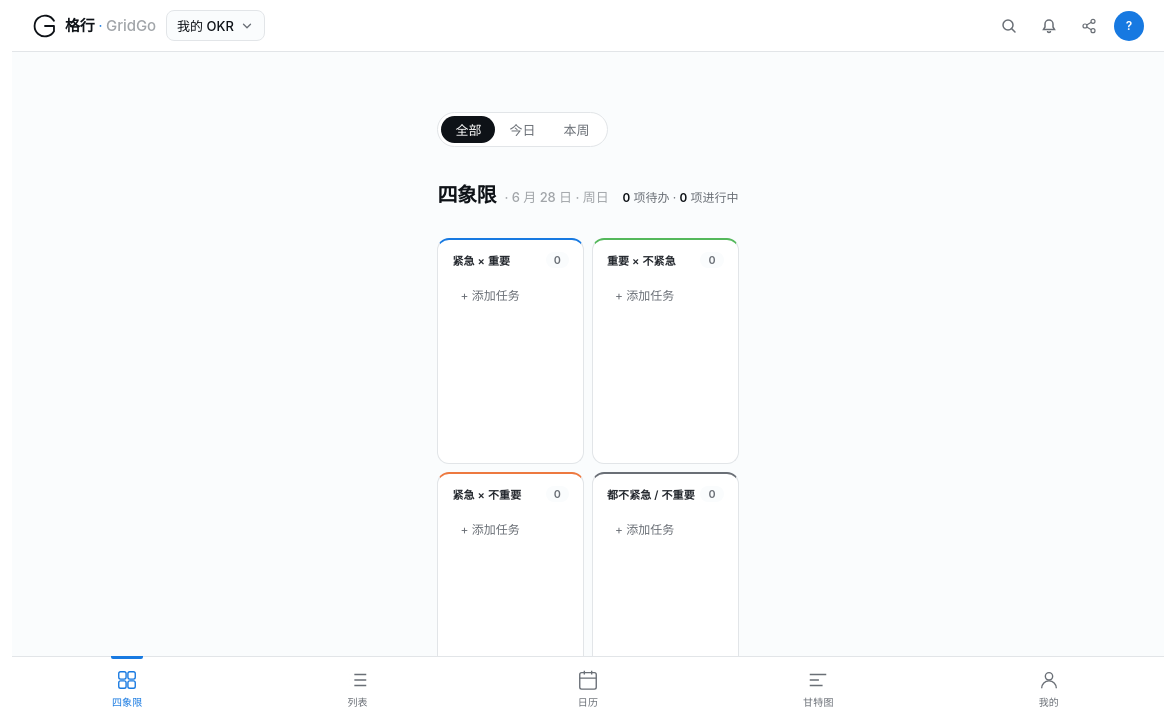
Test: 日常操作 7 步流程 › 6. 切到 我的 Tab，能看到 profile + 统计 + 设置
Click the tab "我的": (1049, 688) [934,657,1164,719]
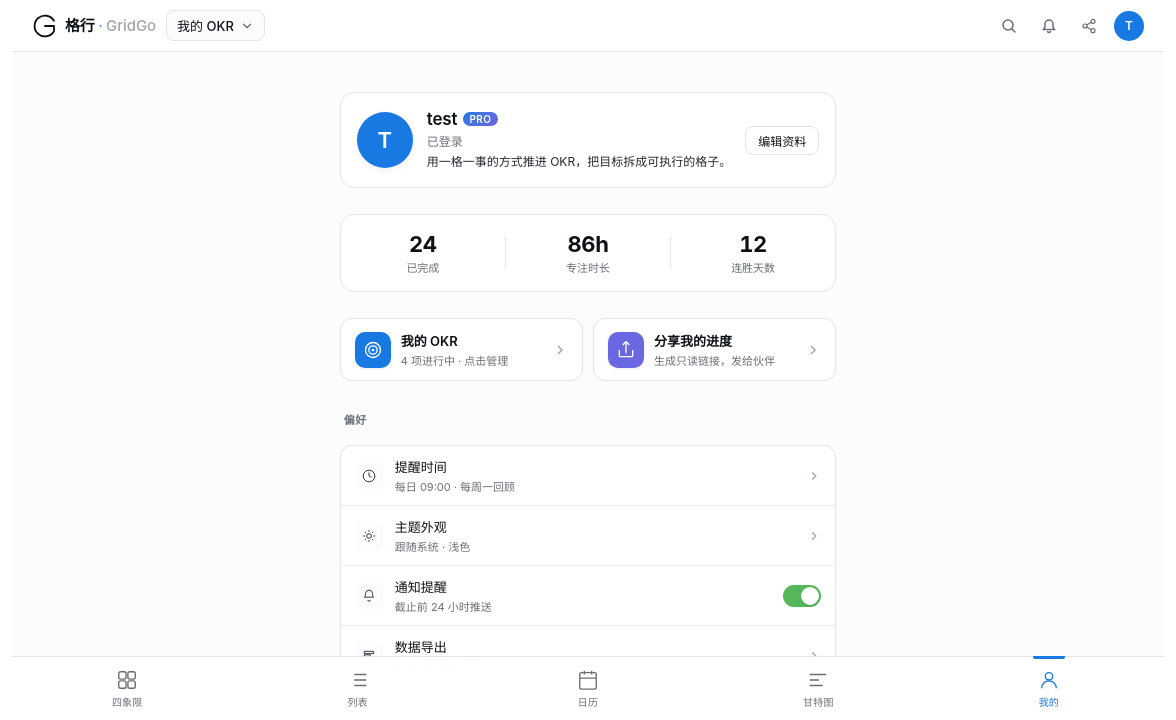
expect the text "PRO" is shown: met, box [463,112,498,126]
expect the text "已完成" is shown: met, box [406,259,439,275]
expect the text "专注时长" is shown: met, box [566,259,610,275]
